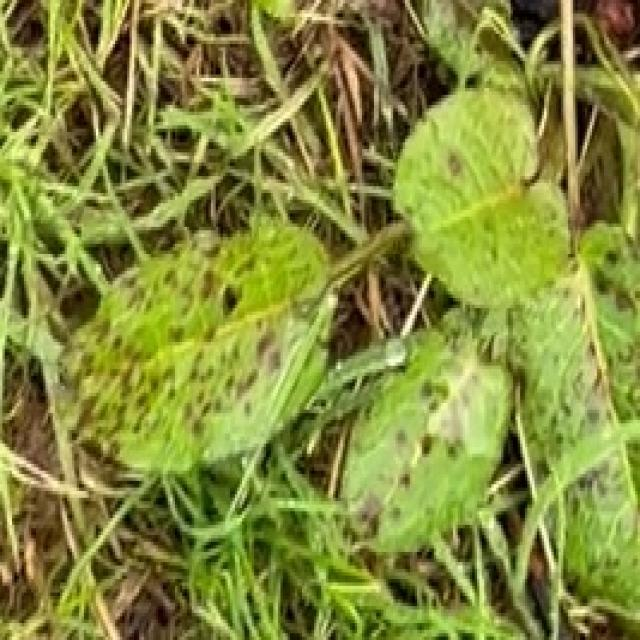organic waste: (120, 99, 640, 595)
